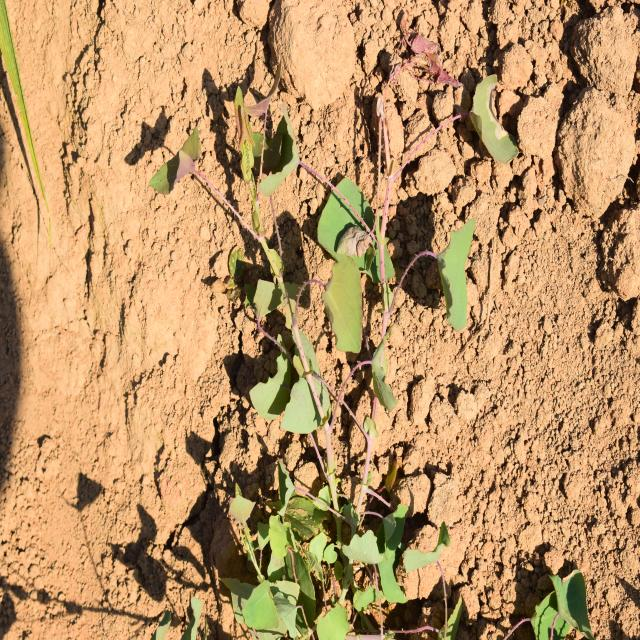Asiatic_Smartweed: (245, 240, 402, 490), (150, 62, 305, 244), (424, 220, 490, 347)
